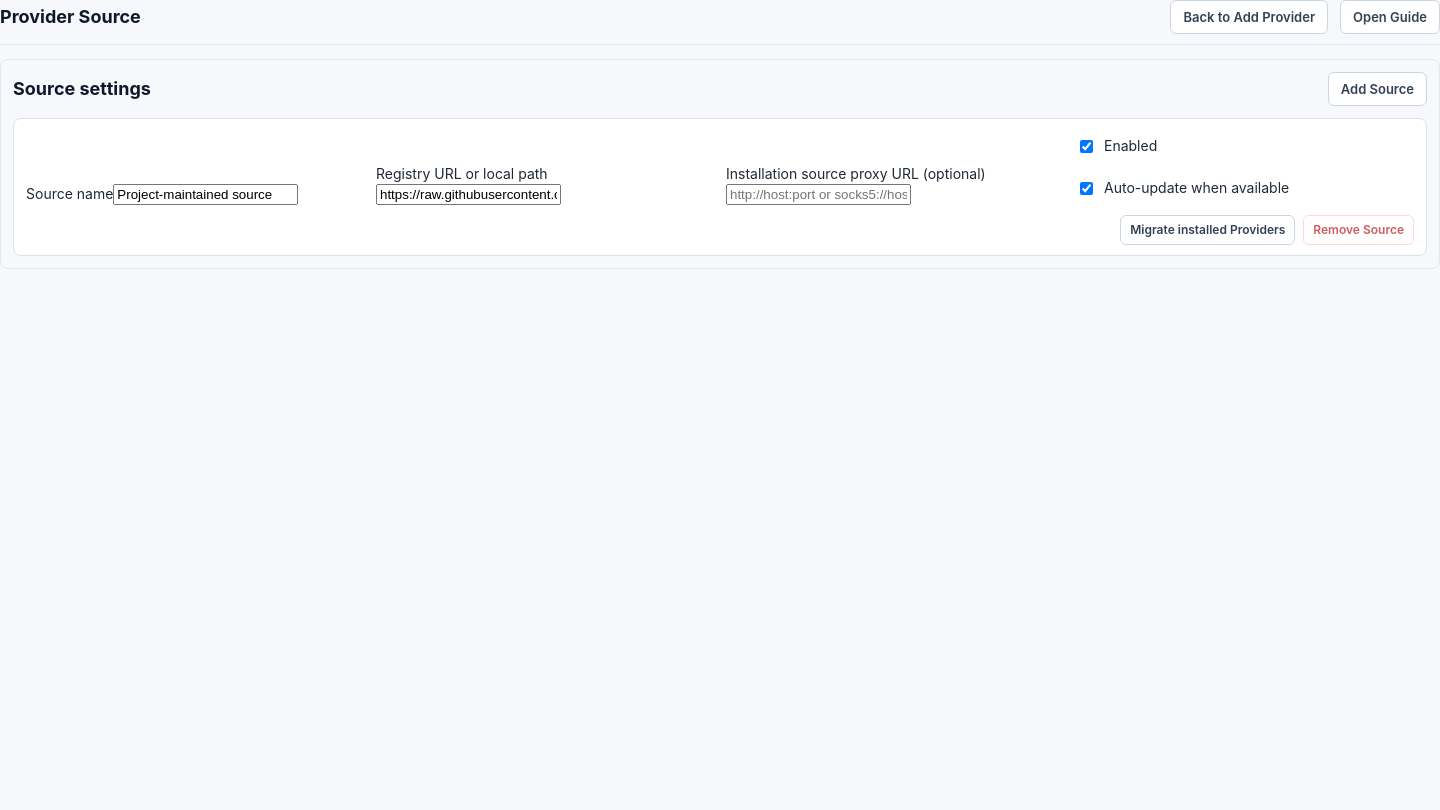
RemoteProviderSettings › source_page_migrates_installed_providers_only_after_confirmation
Click the button with test id "migrate-provider-source-official". click: (1208, 230)
box: 1120,215 -> 1295,245
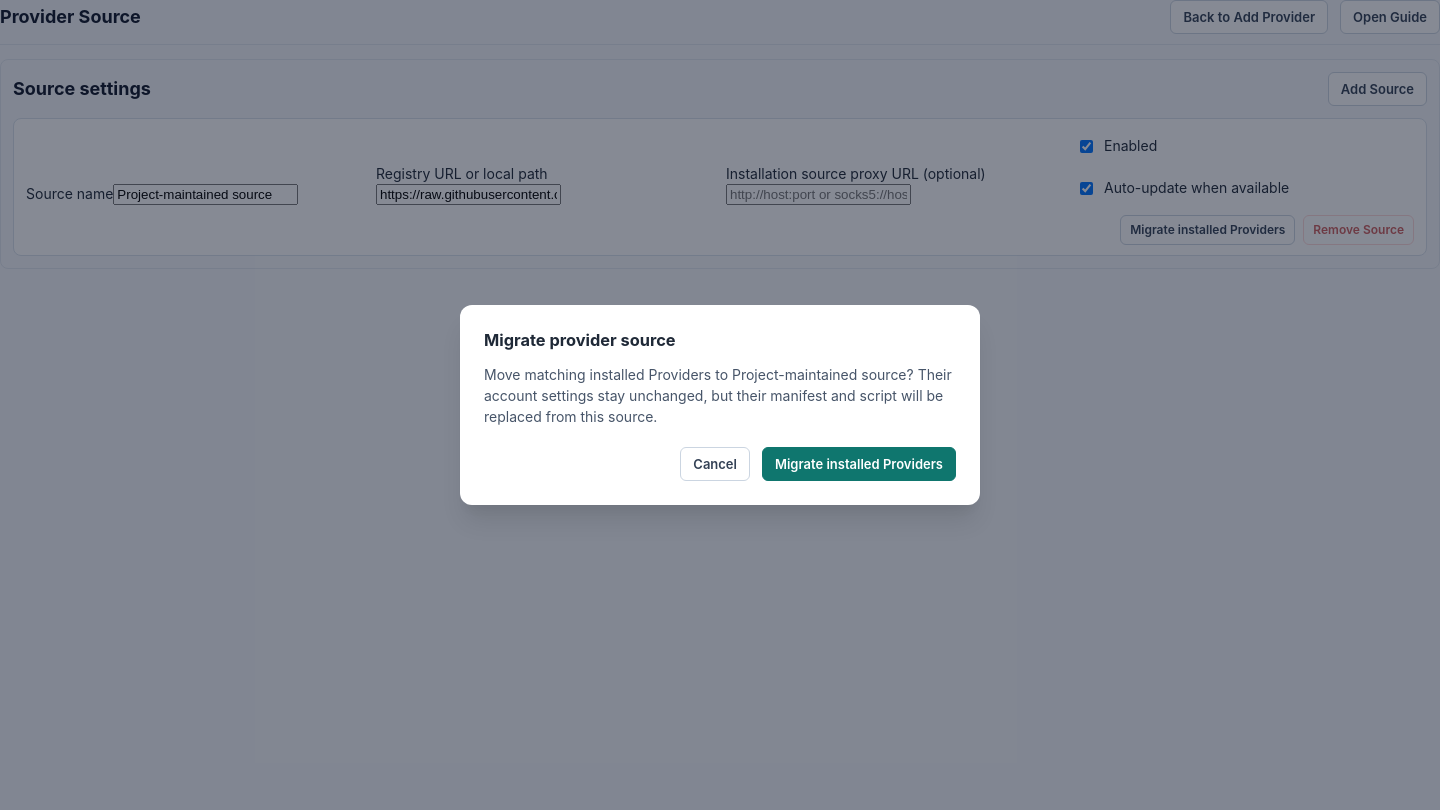
Click the button with test id "confirm-migrate-source". click: (859, 464)
box: 762,447 -> 956,481
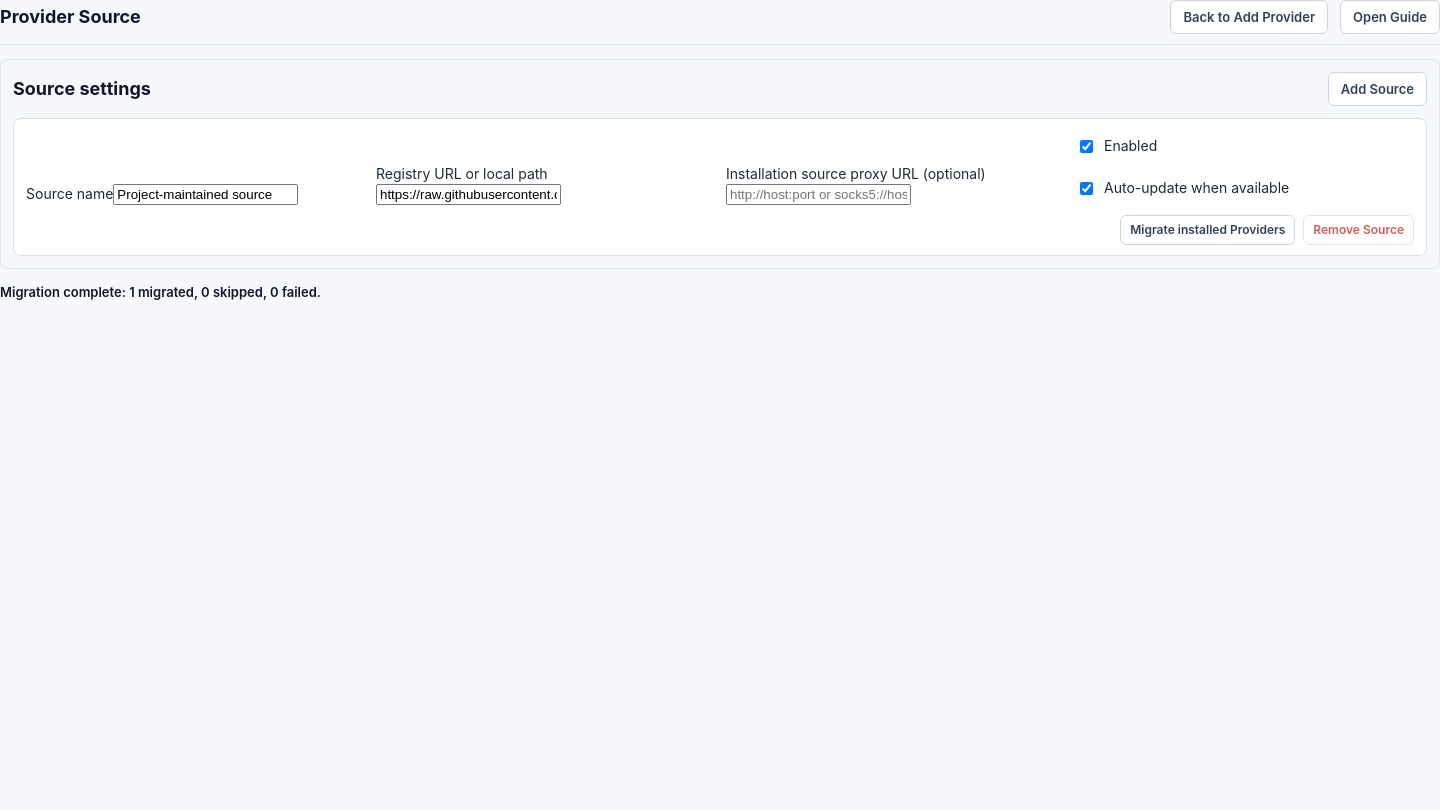
Expected: the text "Migration complete: 1 migrated, 0 skipped, 0 failed." is shown, 0,284 -> 321,300
